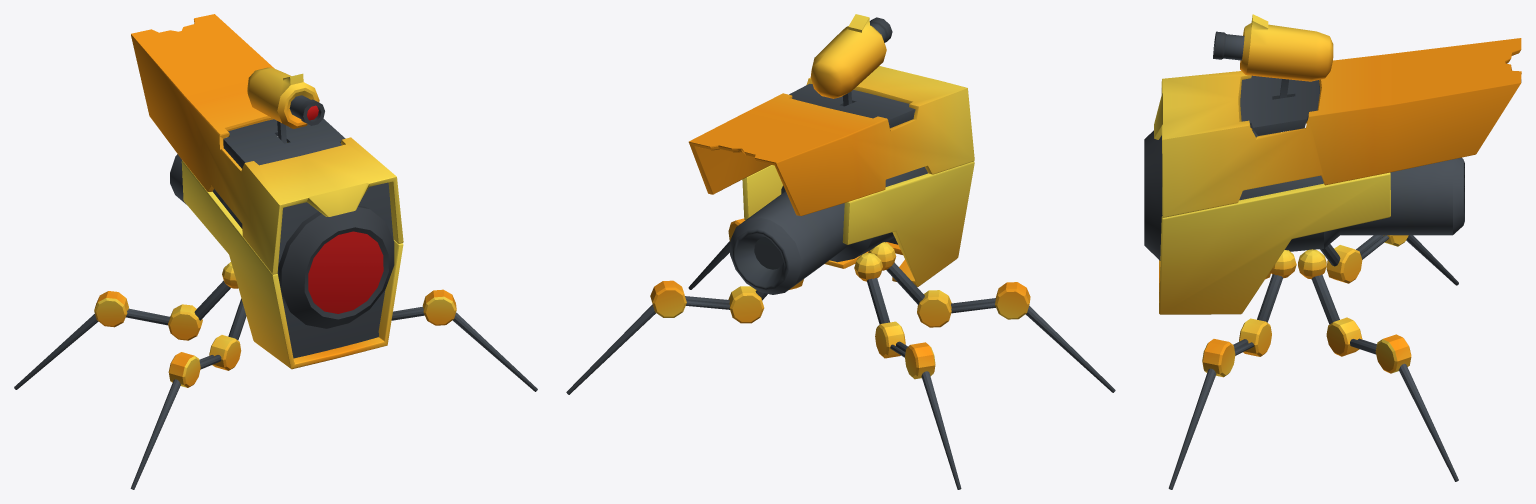
Rendered from Bot_1.fbx.
3 renders of one model, left to right at view 1: azimuth 30°, elevation 25°; view 2: azimuth 150°, elevation 25°; view 3: azimuth 270°, elevation 25°, orthographic. The views are drawn at different scales.
Parts seen in each view (by area): view 1: Body, polySurface10, Legs, pPlane1, pCylinder1; view 2: Body, Legs, polySurface10, pCylinder1; view 3: Body, Legs, polySurface10, pCylinder1.
Boxes of the visible parts, x1=… form: Body: x1=131, y1=14, x2=403, y2=369; polySurface10: x1=170, y1=154, x2=394, y2=328; Legs: x1=14, y1=262, x2=537, y2=489; pPlane1: x1=277, y1=182, x2=393, y2=358; pCylinder1: x1=247, y1=67, x2=324, y2=128; Body: x1=688, y1=66, x2=974, y2=286; Legs: x1=566, y1=218, x2=1115, y2=489; polySurface10: x1=730, y1=109, x2=927, y2=294; pCylinder1: x1=810, y1=14, x2=892, y2=98; Body: x1=1154, y1=38, x2=1521, y2=314; Legs: x1=1168, y1=235, x2=1458, y2=489; polySurface10: x1=1144, y1=129, x2=1464, y2=260; pCylinder1: x1=1213, y1=14, x2=1333, y2=81.
Size of the model in its own units: 437 by 347 by 324.
